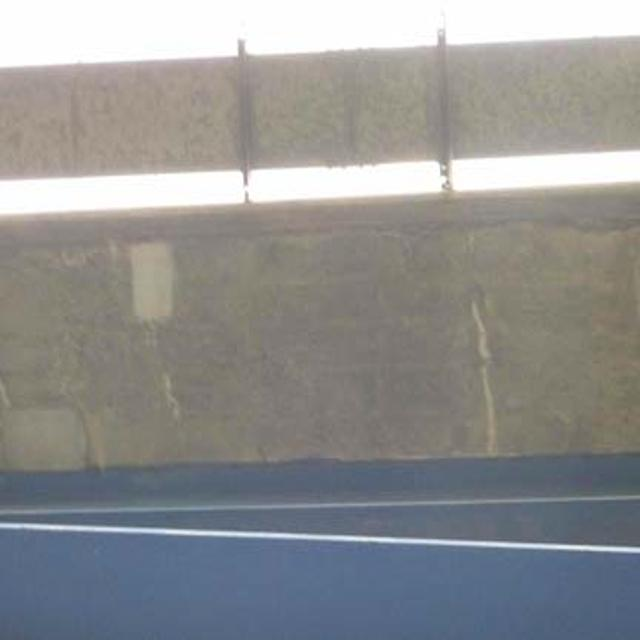freelime: (130, 227, 193, 337)
